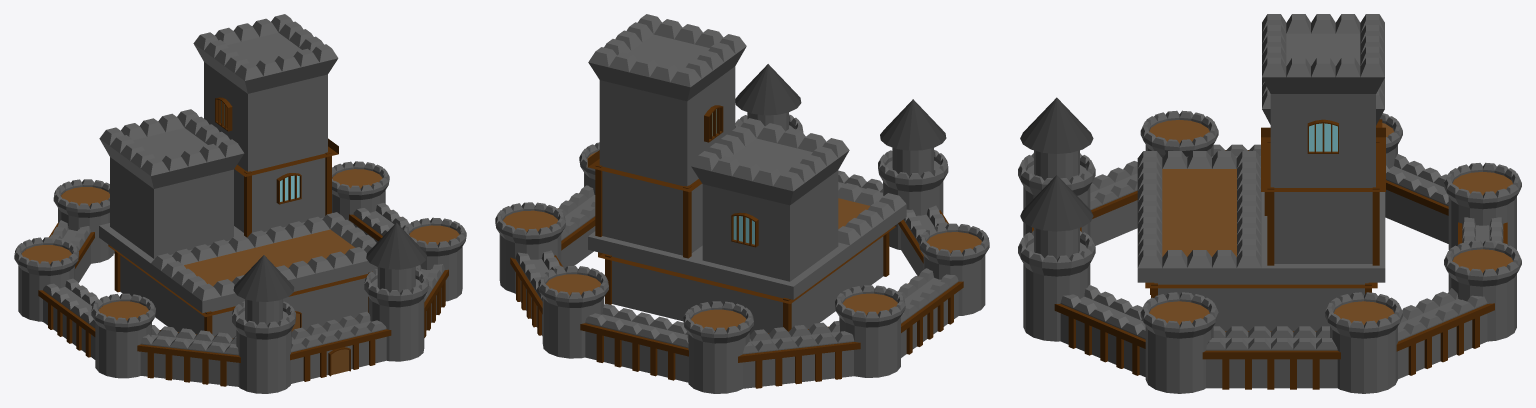
The model's file is Castillo.glb.
3 views of the same model, side by side, from view 1: azimuth 30°, elevation 25°; view 2: azimuth 150°, elevation 25°; view 3: azimuth 270°, elevation 25° (orthographic). The views are drawn at different scales.
Parts seen in each view (by area): view 1: Cube.029; view 2: Cube.029; view 3: Cube.029.
Part boxes in pixels (bbox=[...]): Cube.029: bbox=[14, 14, 466, 393]; Cube.029: bbox=[495, 14, 989, 393]; Cube.029: bbox=[1018, 14, 1521, 393].
Bounding box in the file's own units: 45.13 × 27.22 × 44.8.
